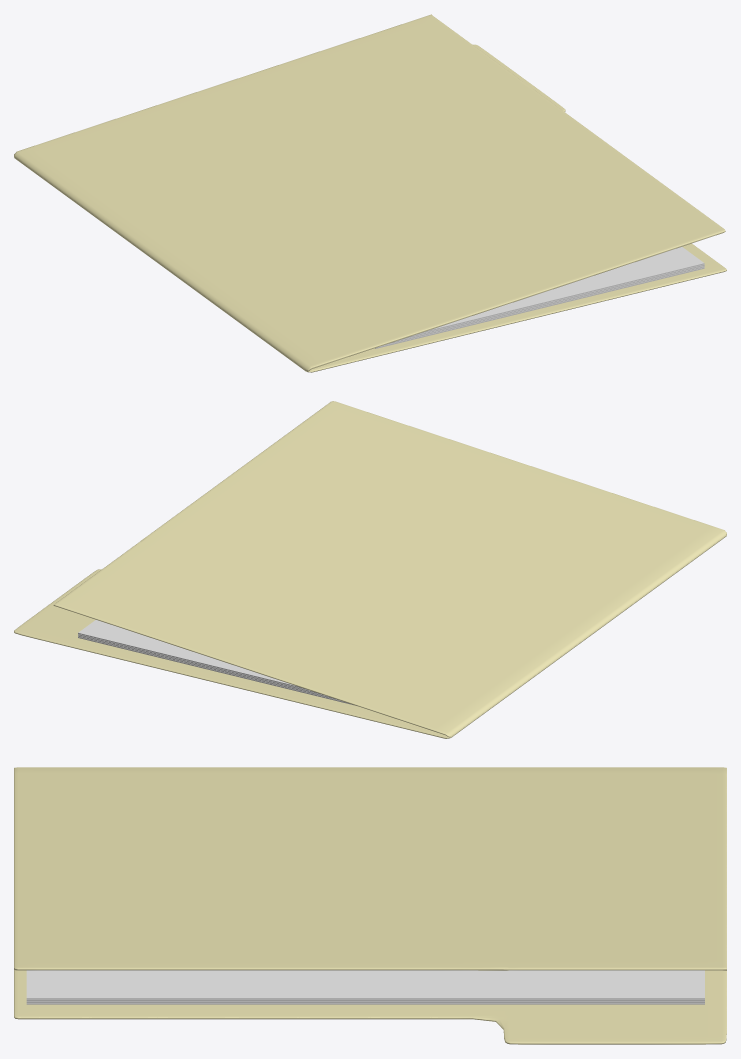
File: File-Folder.fbx
3 views of the same model, one above another, from view 1: azimuth 30°, elevation 25°; view 2: azimuth 150°, elevation 25°; view 3: azimuth 270°, elevation 25° (orthographic). The views are drawn at different scales.
Parts seen in each view (by area): view 1: pCube20, pCube19, Notebook_Paper4, Notebook_Paper1, Notebook_Paper2, Notebook_Paper3; view 2: pCube20, pCube19, Notebook_Paper4, Notebook_Paper1; view 3: pCube20, Notebook_Paper4, pCube19, Notebook_Paper3, Notebook_Paper1, Notebook_Paper2.
Part boxes in pixels (left/top/right/bottom): pCube20: left=14, top=14, right=725, bottom=371; pCube19: left=14, top=44, right=726, bottom=372; Notebook_Paper4: left=415, top=247, right=704, bottom=334; Notebook_Paper1: left=375, top=267, right=704, bottom=348; Notebook_Paper2: left=382, top=266, right=704, bottom=345; Notebook_Paper3: left=399, top=264, right=704, bottom=340; pCube20: left=53, top=401, right=726, bottom=737; pCube19: left=14, top=535, right=726, bottom=738; Notebook_Paper4: left=78, top=620, right=307, bottom=689; Notebook_Paper1: left=78, top=636, right=356, bottom=705; pCube20: left=14, top=767, right=726, bottom=970; Notebook_Paper4: left=26, top=970, right=704, bottom=999; pCube19: left=14, top=969, right=726, bottom=1044; Notebook_Paper3: left=26, top=999, right=704, bottom=1001; Notebook_Paper1: left=26, top=1003, right=704, bottom=1004; Notebook_Paper2: left=26, top=1001, right=704, bottom=1002.
Size of the model in its own units: 2.84 by 0.2441 by 3.14.
